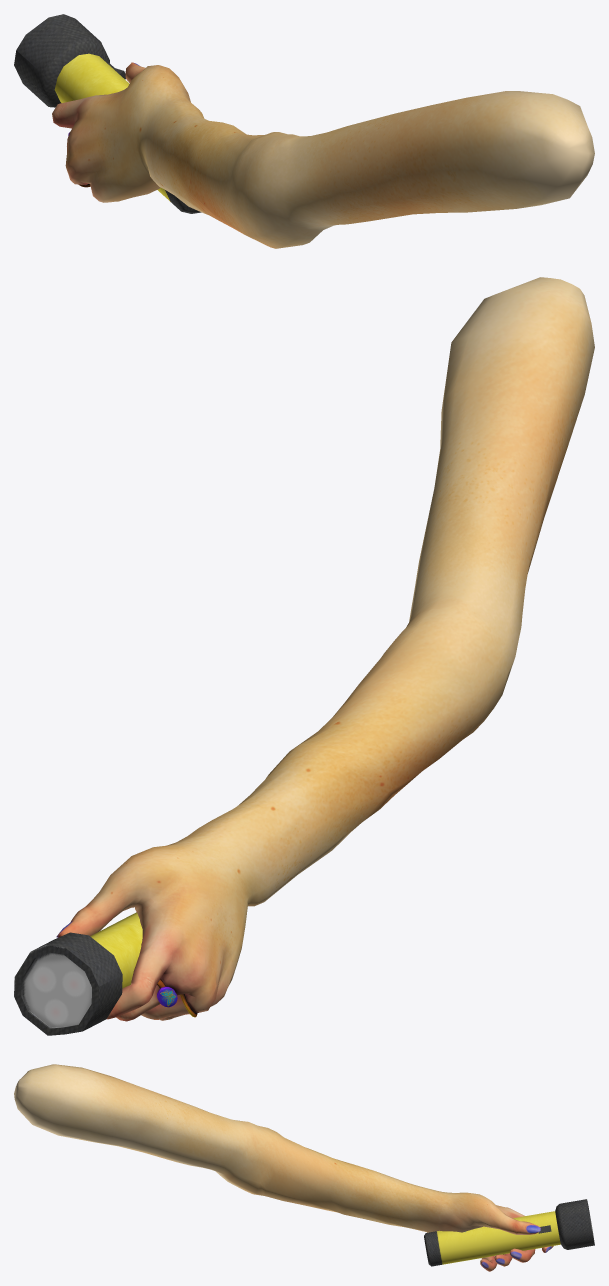
The model's file is ch_ArmHoldingFlashlight_model.fbx.
3 views of the same model, one above another, from view 1: azimuth 30°, elevation 25°; view 2: azimuth 150°, elevation 25°; view 3: azimuth 270°, elevation 25° (orthographic). The views are drawn at different scales.
Visible parts, largest first — view 1: polySurface1; view 2: polySurface1; view 3: polySurface1.
Part boxes in pixels (left/top/right/bottom): polySurface1: left=14, top=14, right=594, bottom=248; polySurface1: left=14, top=277, right=594, bottom=1035; polySurface1: left=14, top=1064, right=594, bottom=1271.
Bounding box in the file's own units: 21.52 × 41.27 × 102.
